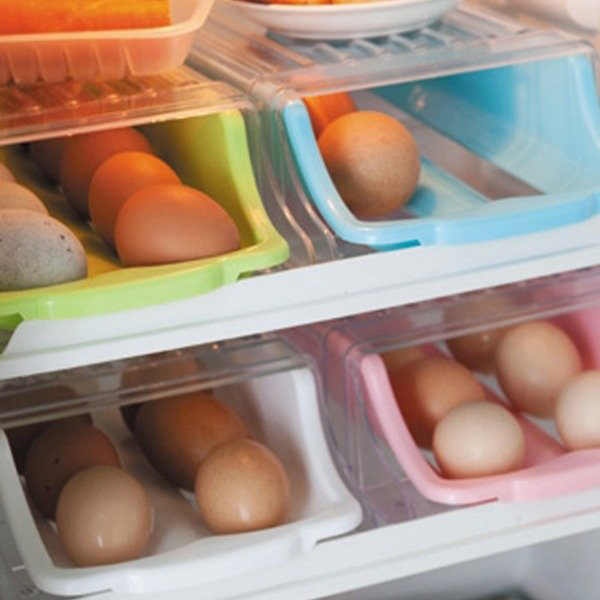egg: (15, 349, 295, 566), (355, 304, 600, 478), (3, 128, 245, 285), (301, 90, 421, 215)
